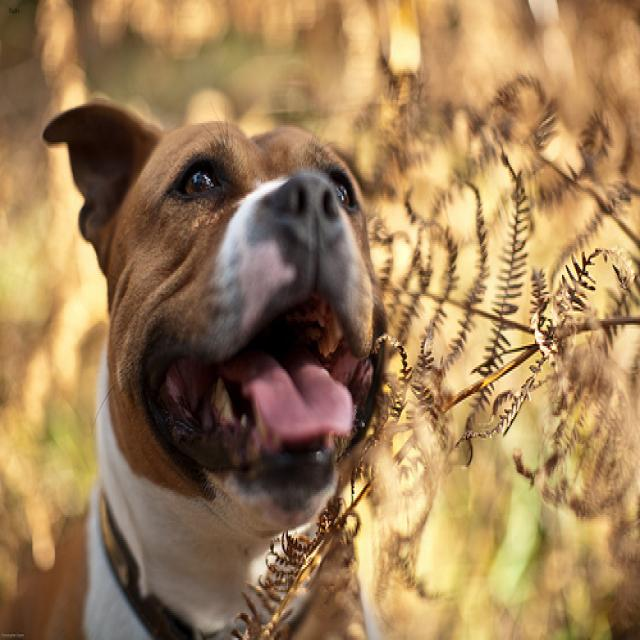dog-staffordshire_bull_terrier: (1, 88, 404, 636)
